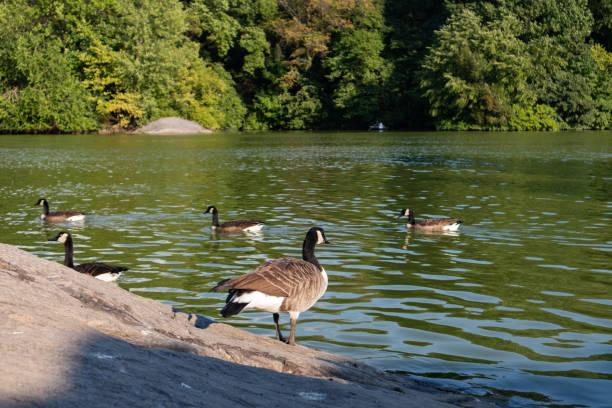Canadian-Goose: (217, 228, 332, 339), (49, 230, 127, 284), (200, 203, 265, 234), (399, 204, 463, 232), (33, 196, 88, 223)
